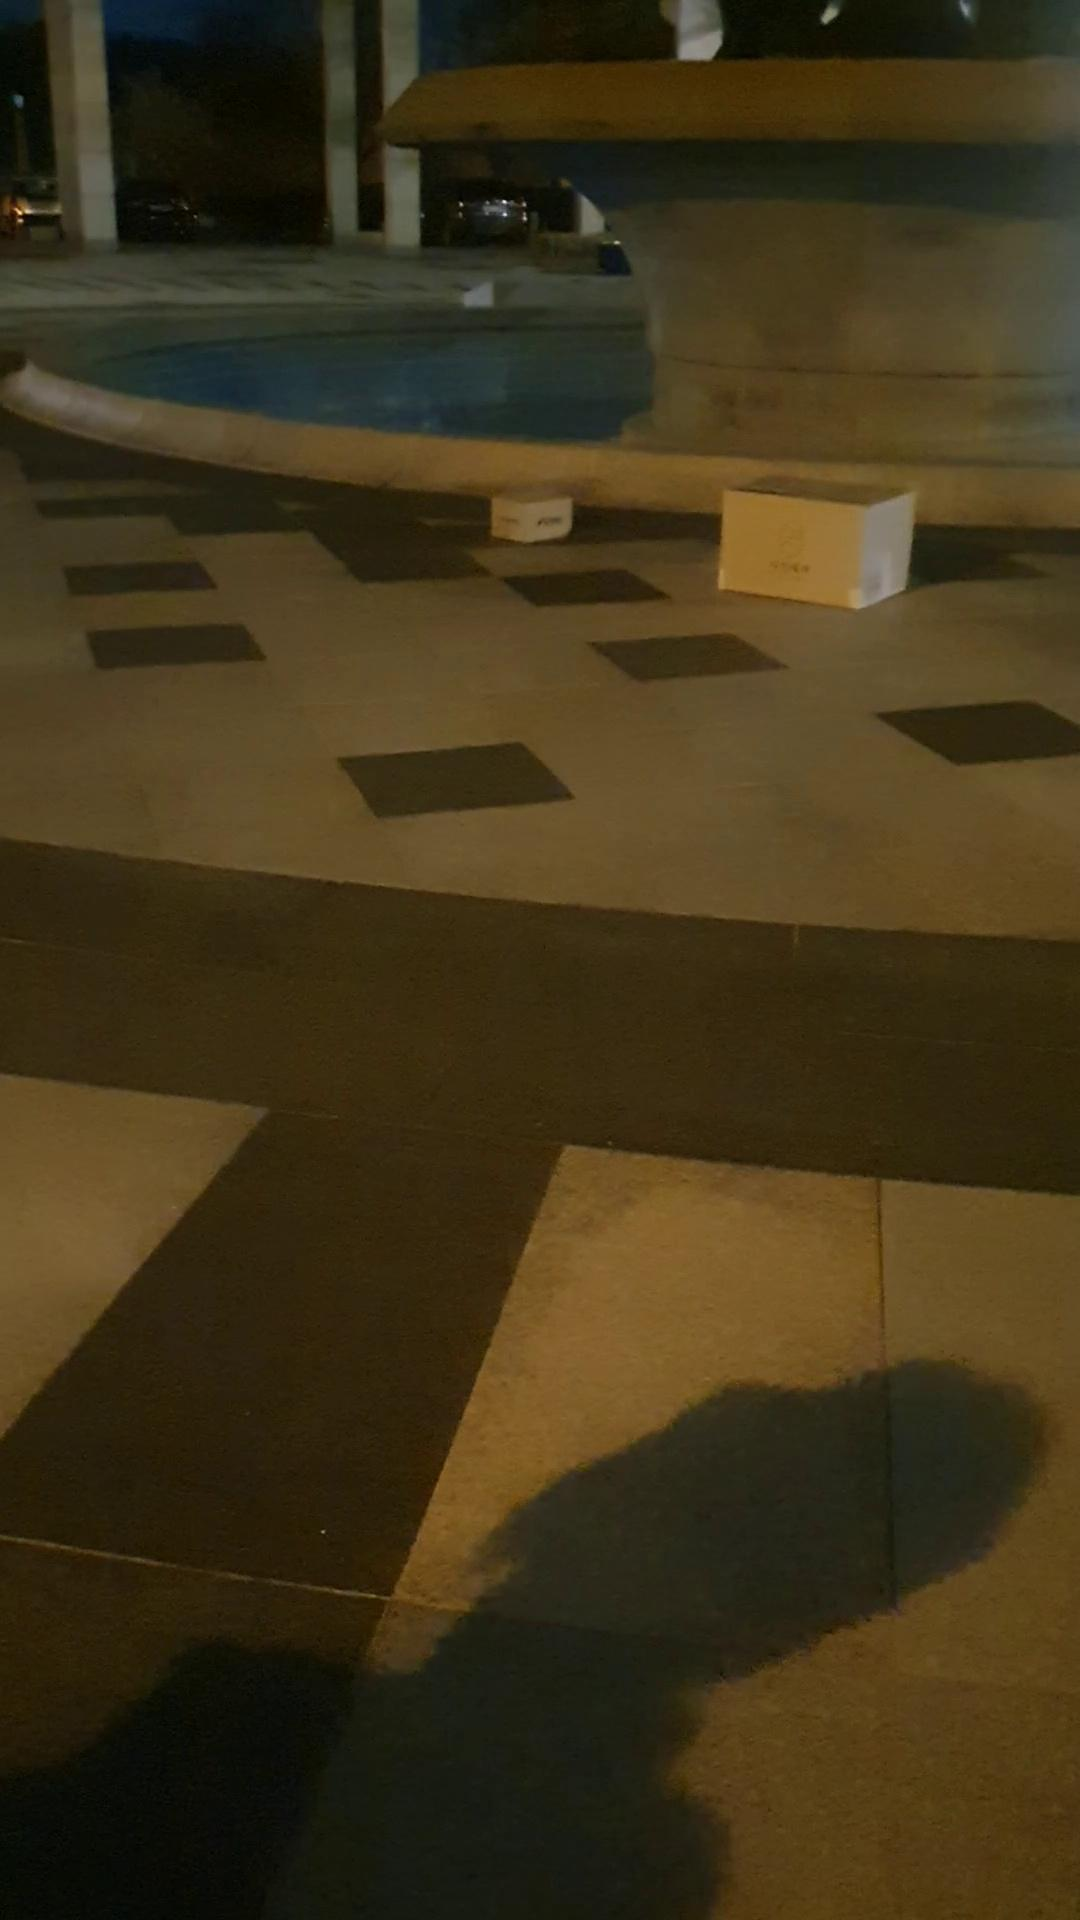Box: (711, 468, 935, 613), (463, 477, 587, 550)
